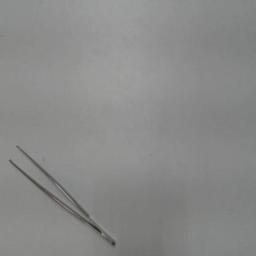Gillies Toothed Dissector: (7, 138, 119, 250)
